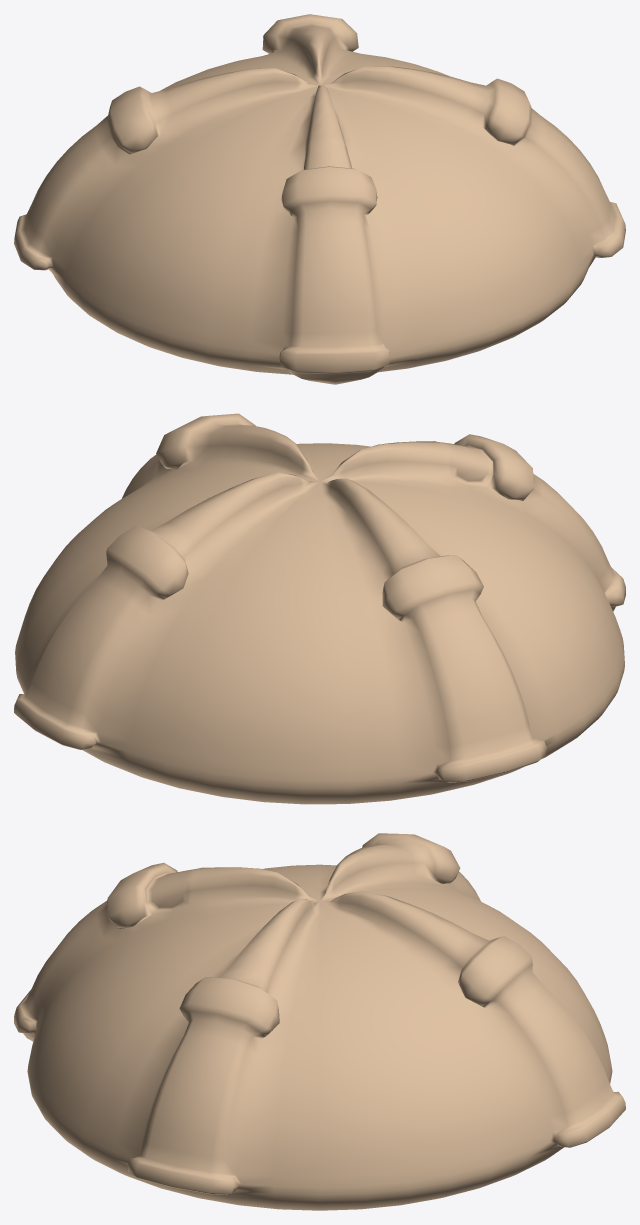
File: Pan De Muertos.fbx
3 views of the same model, one above another, from view 1: azimuth 30°, elevation 25°; view 2: azimuth 150°, elevation 25°; view 3: azimuth 270°, elevation 25° (orthographic). The views are drawn at different scales.
Visible parts, largest first — view 1: pSphere1; view 2: pSphere1; view 3: pSphere1.
Boxes of the visible parts, x1=… form: pSphere1: x1=14, y1=14, x2=625, y2=384; pSphere1: x1=14, y1=413, x2=625, y2=804; pSphere1: x1=14, y1=833, x2=625, y2=1210.
Size of the model in its own units: 2.06 by 0.9441 by 2.06.
